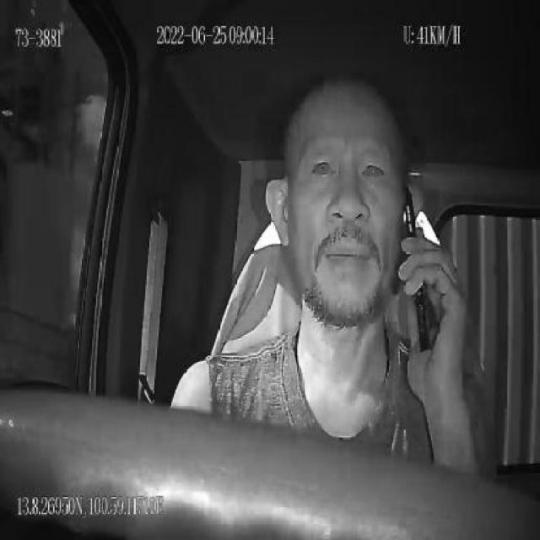phone: (402, 189, 430, 353)
